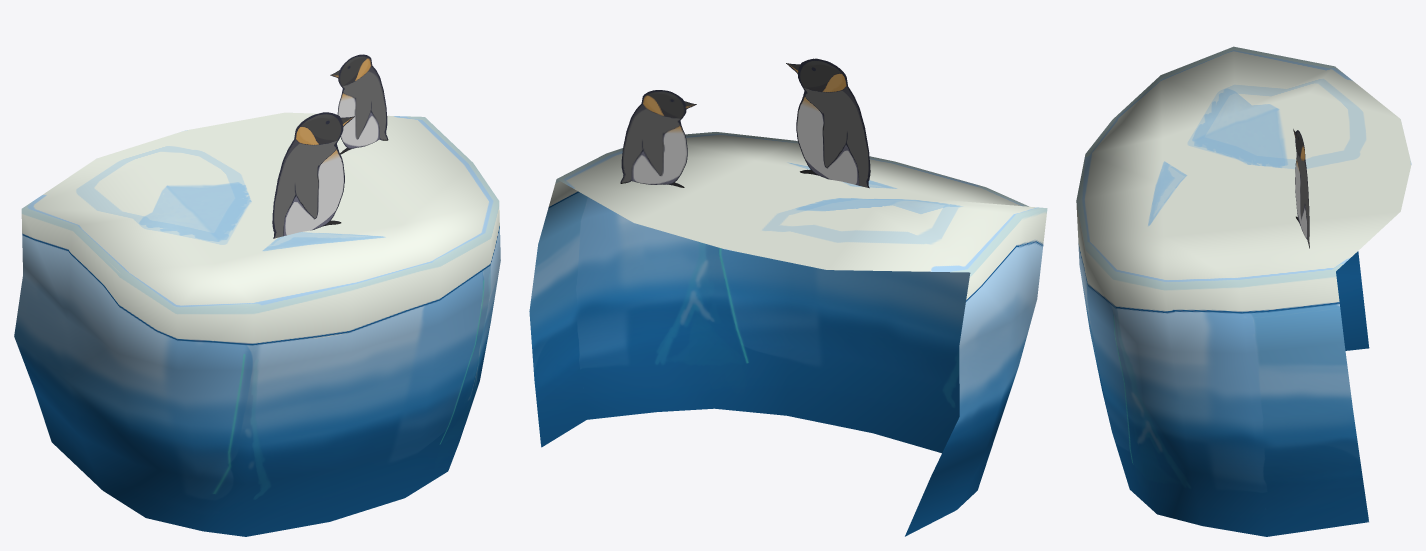
Rendered from penguin_icerock.fbx.
3 views of the same model, side by side, from view 1: azimuth 30°, elevation 25°; view 2: azimuth 150°, elevation 25°; view 3: azimuth 270°, elevation 25° (orthographic). The views are drawn at different scales.
Visible parts, largest first — view 1: pCube1; view 2: pCube1; view 3: pCube1.
Boxes of the visible parts, x1,y1,x2,y2 form: pCube1: [14, 54, 500, 536]; pCube1: [529, 58, 1047, 536]; pCube1: [1076, 46, 1411, 536].
Bounding box in the file's own units: 1.7 × 1.59 × 1.16.
2 materials, 2 textured.
